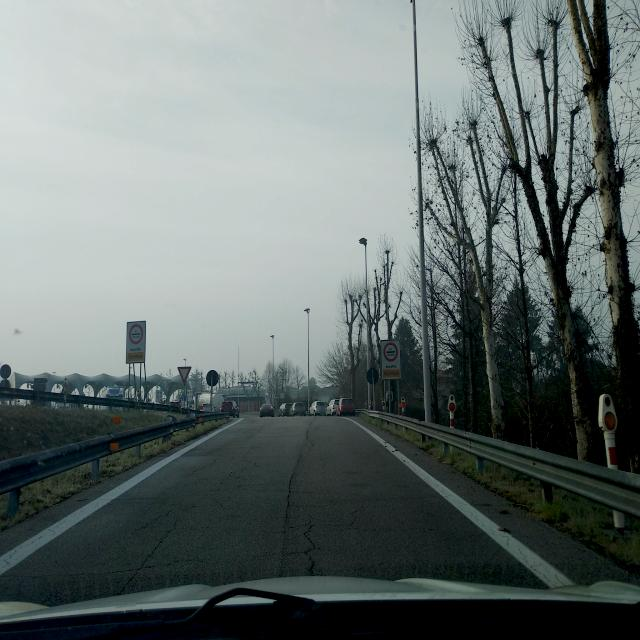car: (220, 398, 240, 417), (338, 397, 356, 416), (259, 402, 275, 418), (313, 400, 328, 416), (292, 401, 306, 416), (280, 402, 292, 417), (330, 398, 340, 414)
